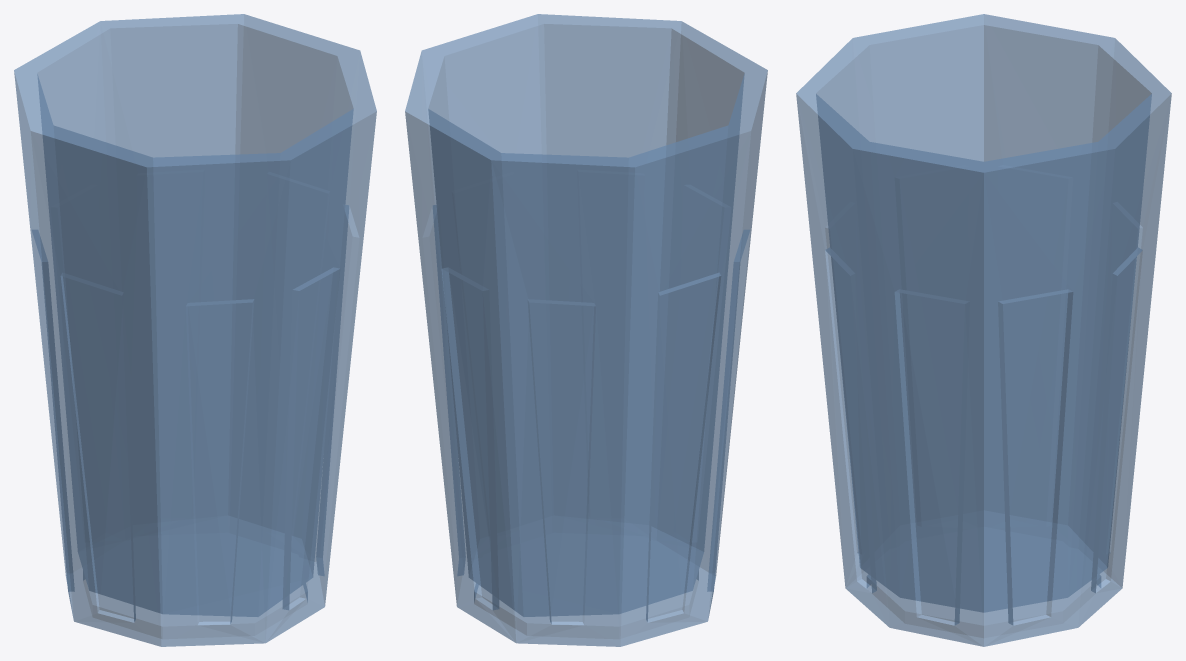
The model's file is Water.obj.
3 views of the same model, side by side, from view 1: azimuth 30°, elevation 25°; view 2: azimuth 150°, elevation 25°; view 3: azimuth 270°, elevation 25° (orthographic).
Visible parts, largest first — view 1: Cube; view 2: Cube; view 3: Cube.
Boxes of the visible parts, x1,y1,x2,y2 form: Cube: (14, 14, 376, 646); Cube: (405, 14, 767, 646); Cube: (796, 14, 1171, 646).
Size of the model in its own units: 0.2639 by 0.3839 by 0.2639.
